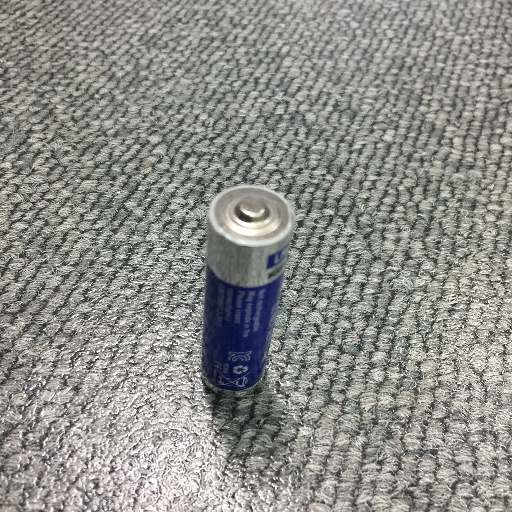Battery_0: (190, 171, 301, 423)
